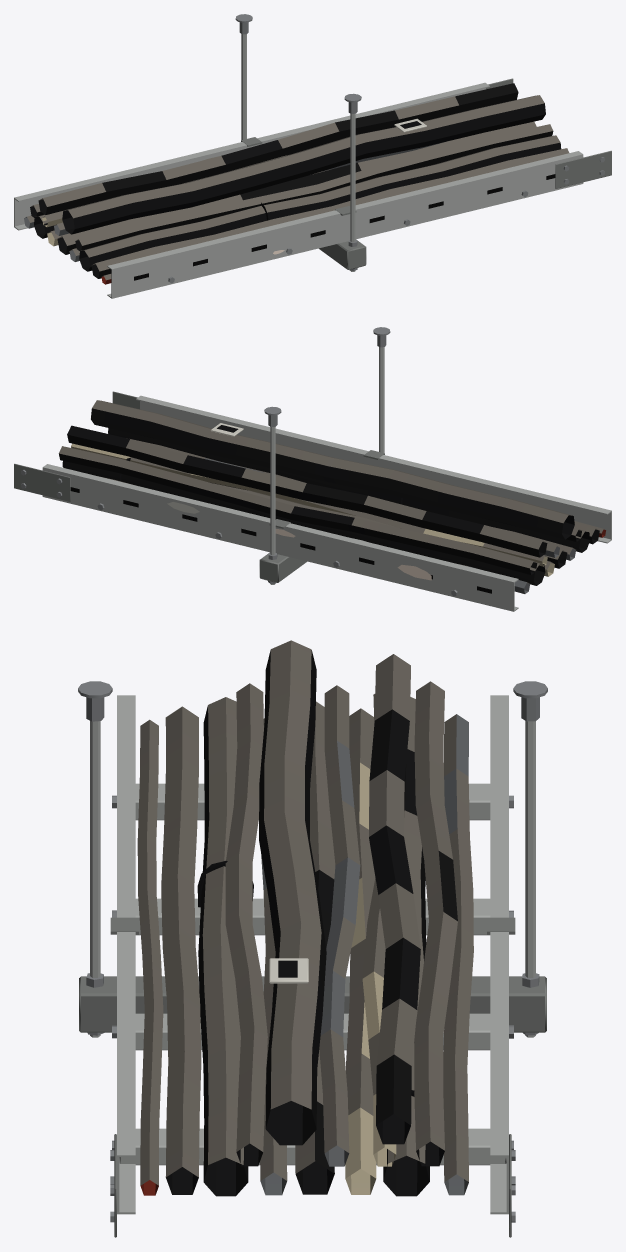
File: cable_tray.glb
3 renders of one model, top to bottom at view 1: azimuth 30°, elevation 25°; view 2: azimuth 150°, elevation 25°; view 3: azimuth 270°, elevation 25°, orthographic. The views are drawn at different scales.
Parts seen in each view (by area): view 1: teil.008, teil.006, teil, teil.003, teil.002, teil.001, teil.009; view 2: teil.008, teil, teil.006, teil.003, teil.010, teil.002, teil.001, teil.009, teil.004; view 3: teil.006, teil, teil.008, teil.003, teil.009, teil.010, teil.002.
Part boxes in pixels (x1=…): teil.008: x1=30, y1=83, x2=561, y2=278; teil.006: x1=27, y1=95, x2=569, y2=280; teil: x1=14, y1=34, x2=583, y2=298; teil.003: x1=241, y1=78, x2=611, y2=269; teil.002: x1=168, y1=14, x2=604, y2=283; teil.001: x1=134, y1=174, x2=555, y2=280; teil.009: x1=24, y1=142, x2=443, y2=261; teil.008: x1=59, y1=408, x2=599, y2=585; teil: x1=42, y1=347, x2=611, y2=611; teil.006: x1=59, y1=400, x2=605, y2=583; teil.003: x1=14, y1=391, x2=384, y2=582; teil.010: x1=71, y1=443, x2=554, y2=576; teil.002: x1=21, y1=327, x2=457, y2=596; teil.001: x1=70, y1=487, x2=491, y2=593; teil.009: x1=205, y1=458, x2=575, y2=593; teil.004: x1=275, y1=529, x2=431, y2=580; teil.006: x1=137, y1=640, x2=473, y2=1185; teil: x1=90, y1=695, x2=535, y2=1214; teil.008: x1=166, y1=650, x2=457, y2=1196; teil.003: x1=79, y1=917, x2=546, y2=1237; teil.009: x1=260, y1=714, x2=468, y2=1195; teil.010: x1=345, y1=762, x2=396, y2=1194; teil.002: x1=78, y1=681, x2=547, y2=1222.
Bounding box in the file's own units: 1.06 × 0.352 × 0.432.
